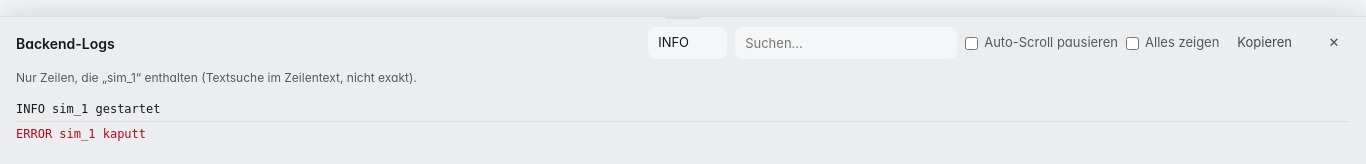
Konsole im Lauf › ist auf den Lauf vorgefiltert, „Alles zeigen" hebt den Filter auf
The image size is (1366, 164).
Expected: the elements with class "log-line" read "INFO sim_1 gestartet", "ERROR sim_1 kaputt", in this order, [16, 102, 160, 116]; [16, 121, 1350, 146]
Expected: the text "nicht exakt" is shown, [16, 70, 417, 85]
Step 1. Click the checkbox labelled "Alles zeigen" → (1132, 43), box [1126, 36, 1139, 50]
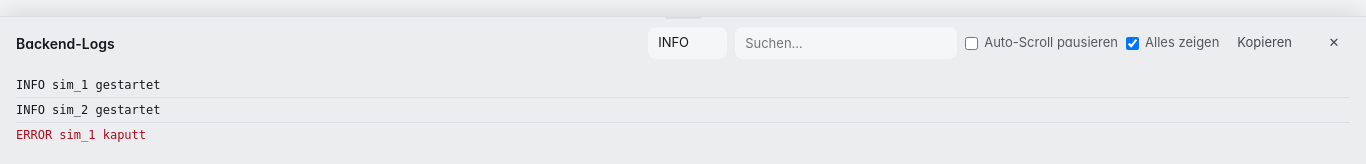
Expected: the number of elements with class "log-line" is 3, [16, 78, 160, 92]; [16, 97, 1350, 122]; [16, 122, 1350, 147]
